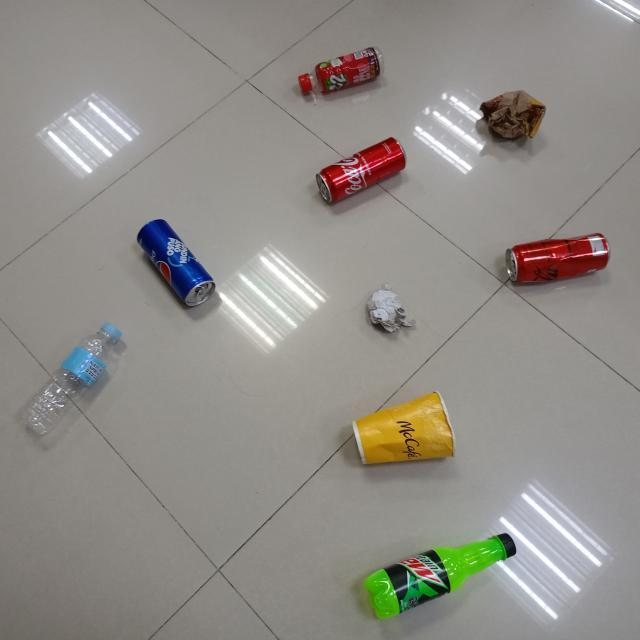recyclable waste: (360, 526, 526, 626), (13, 318, 126, 439), (346, 384, 462, 469), (132, 210, 218, 314), (310, 130, 412, 210), (500, 225, 614, 288), (291, 42, 391, 100), (474, 84, 550, 148), (363, 280, 420, 338)
